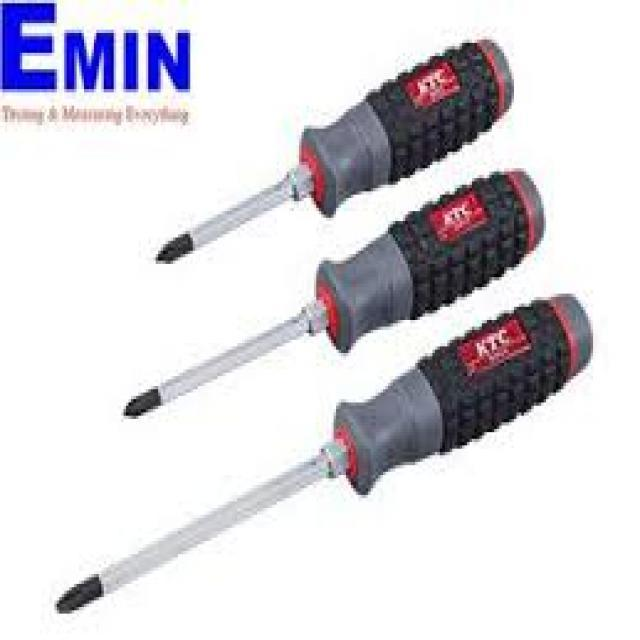screwdriver: (51, 292, 594, 616), (121, 167, 549, 420), (148, 35, 516, 269)
